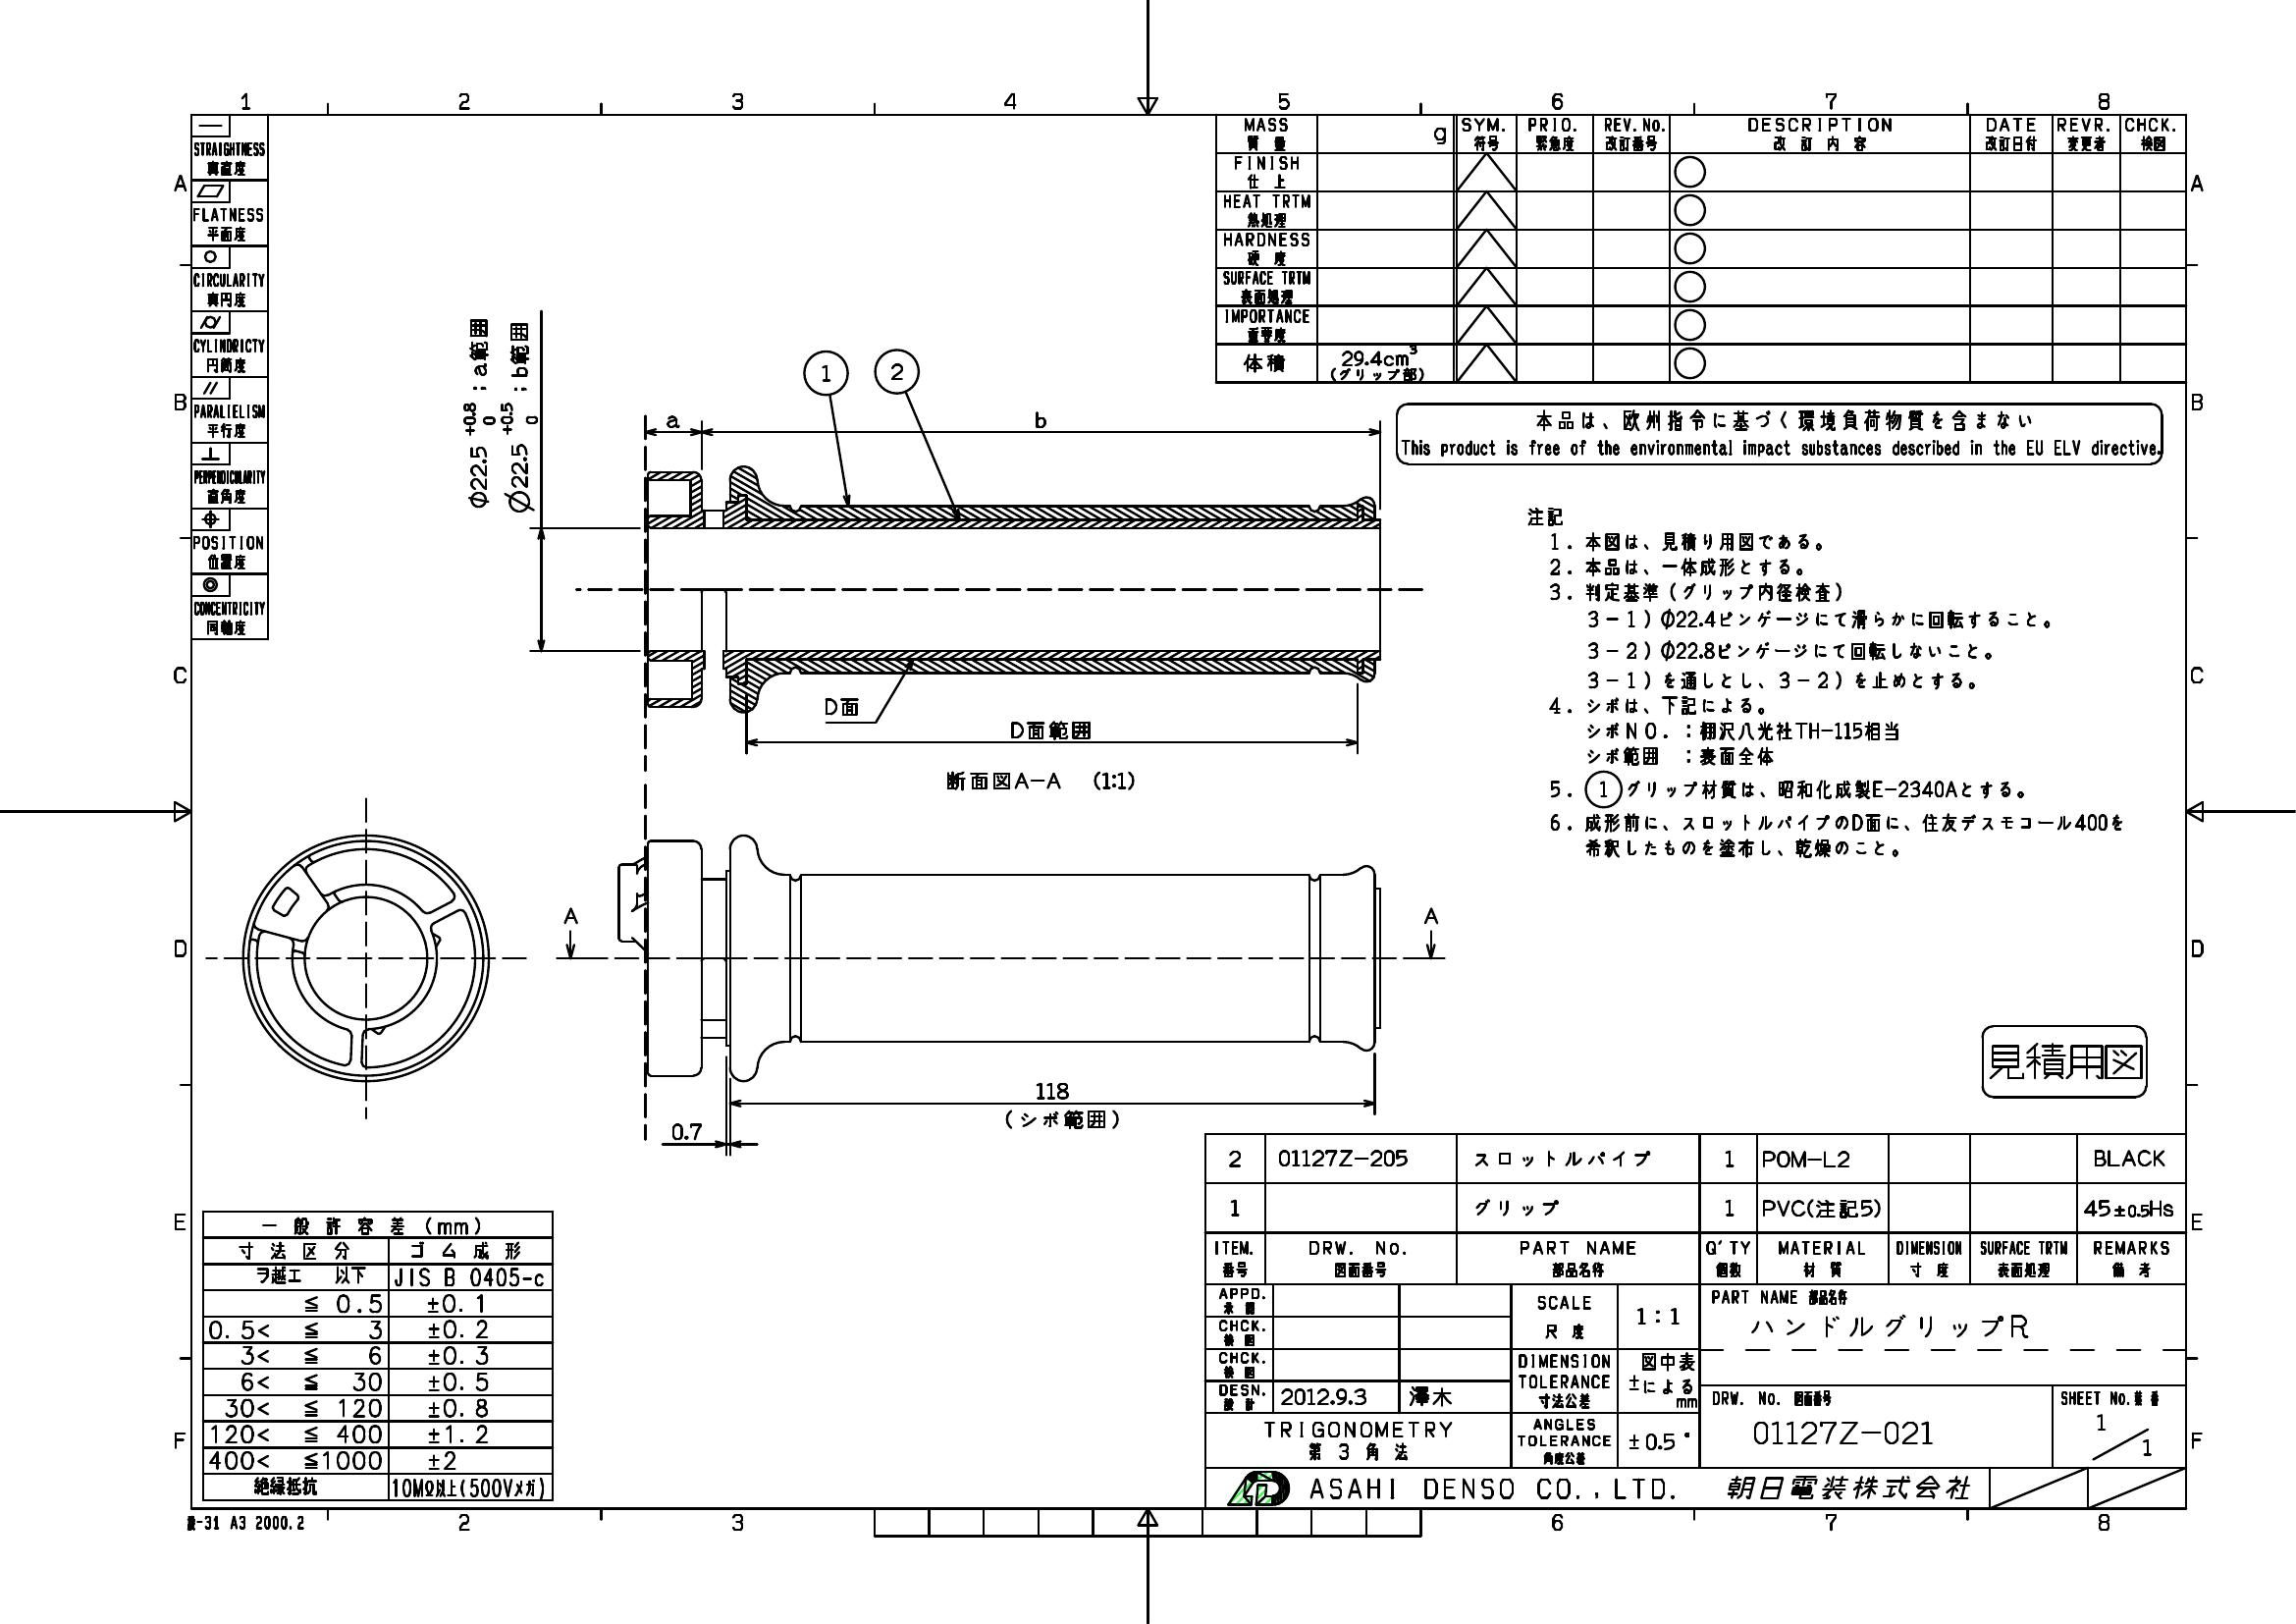anntotation_text: (1523, 499, 2134, 858), (1397, 401, 2161, 464), (1983, 1023, 2147, 1098), (936, 763, 1142, 798), (1000, 1104, 1126, 1134), (183, 1512, 313, 1534), (1003, 717, 1098, 743), (801, 350, 848, 395), (873, 348, 919, 394), (504, 311, 532, 383), (466, 313, 494, 380), (1414, 902, 1448, 930), (826, 694, 863, 717), (555, 900, 583, 928), (1029, 408, 1049, 429), (664, 415, 682, 429)
dimension_text: (497, 395, 536, 520), (457, 392, 497, 510), (666, 1114, 704, 1141), (1031, 1081, 1072, 1100)
object: (618, 831, 1381, 1083), (643, 466, 1381, 714), (241, 835, 488, 1083)
title_block: (1205, 1134, 2184, 1510), (1214, 112, 2187, 381), (200, 1211, 553, 1501), (188, 116, 265, 642)
